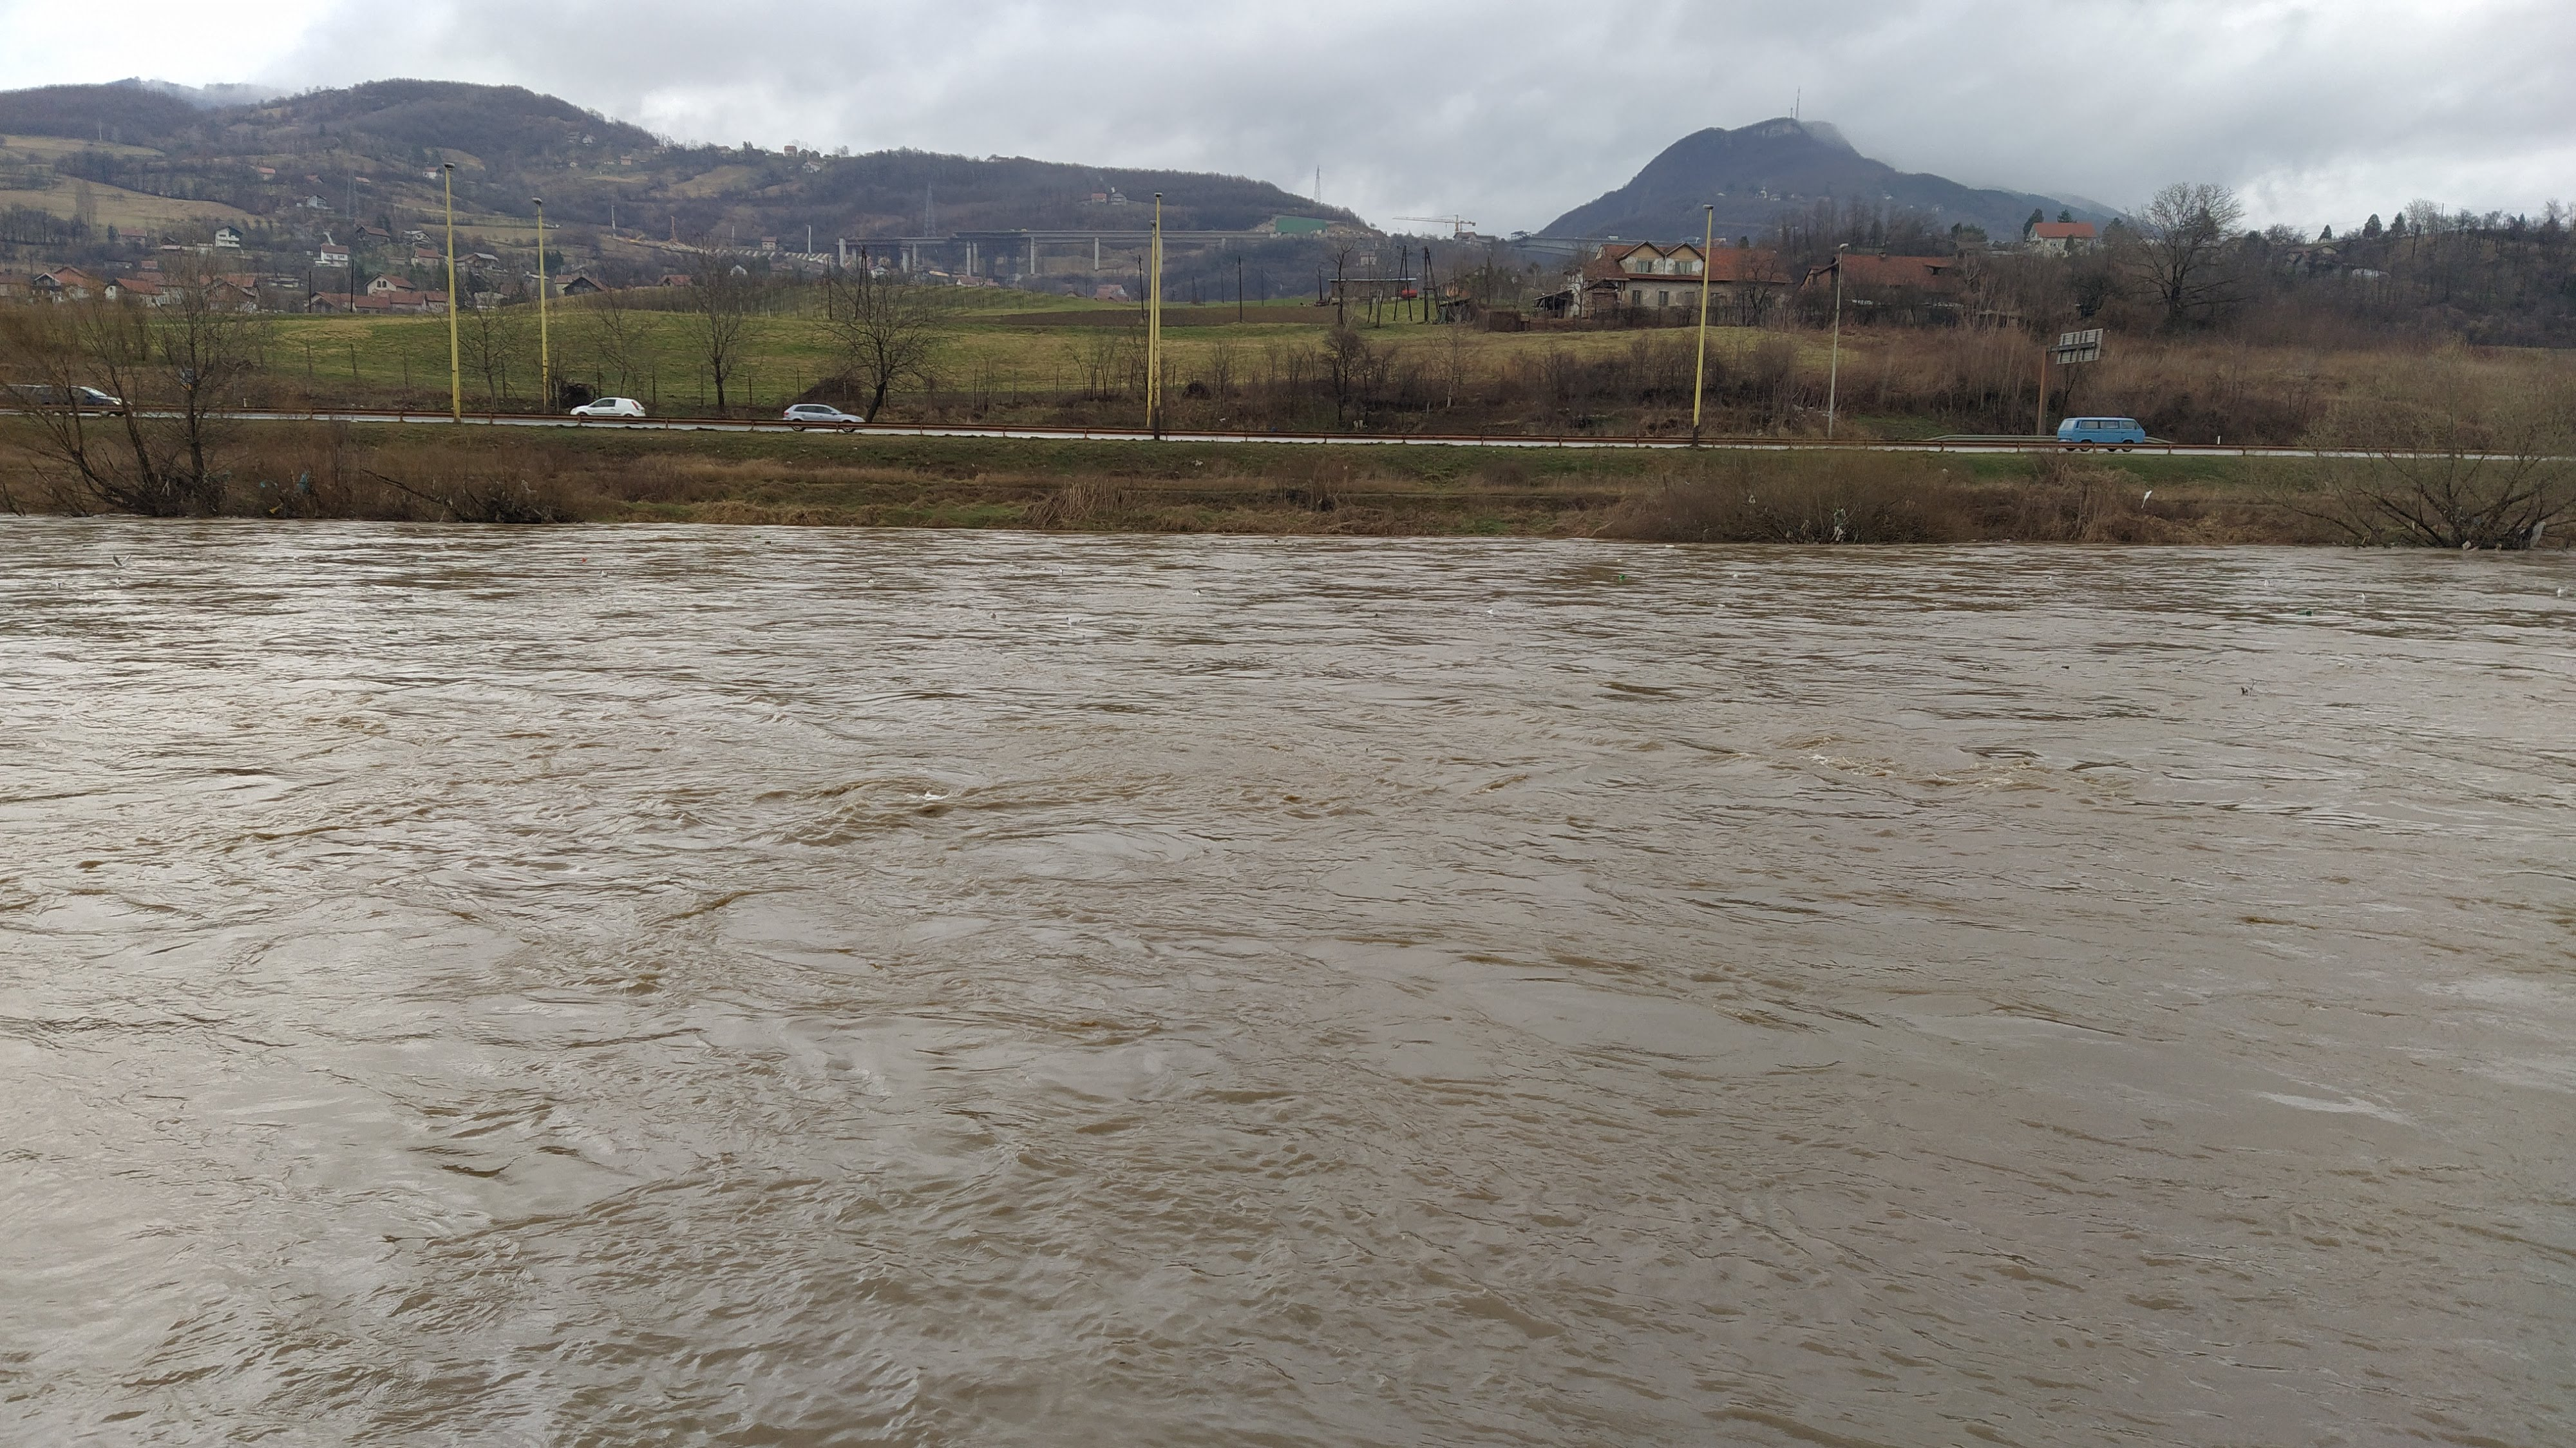Plastic Bottle: (28, 535, 39, 540), (2304, 609, 2311, 614), (1665, 543, 1674, 547), (754, 535, 759, 536), (1619, 575, 1624, 577)
